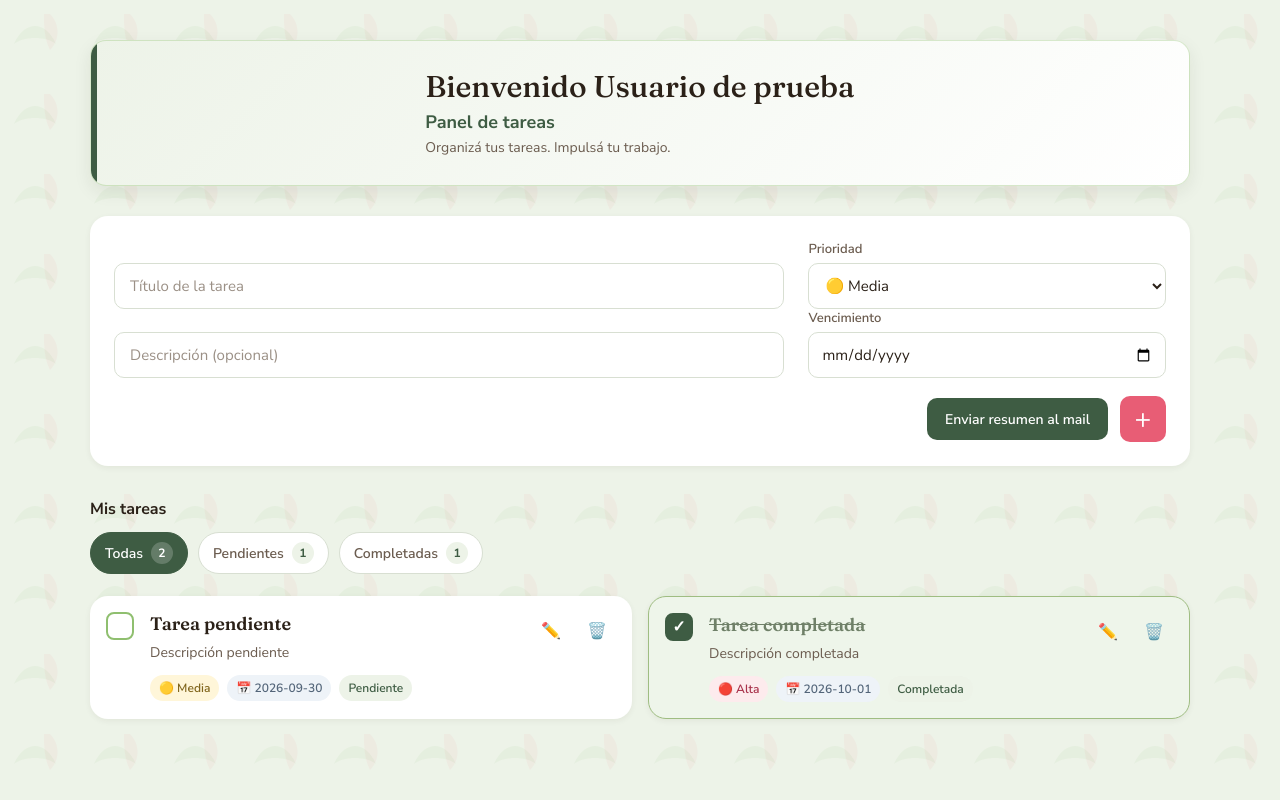
Test: Dashboard › muestra solamente las tareas completadas al seleccionar el filtro
Click the button "Completadas 1".
click(411, 553)  # box [339, 532, 483, 574]
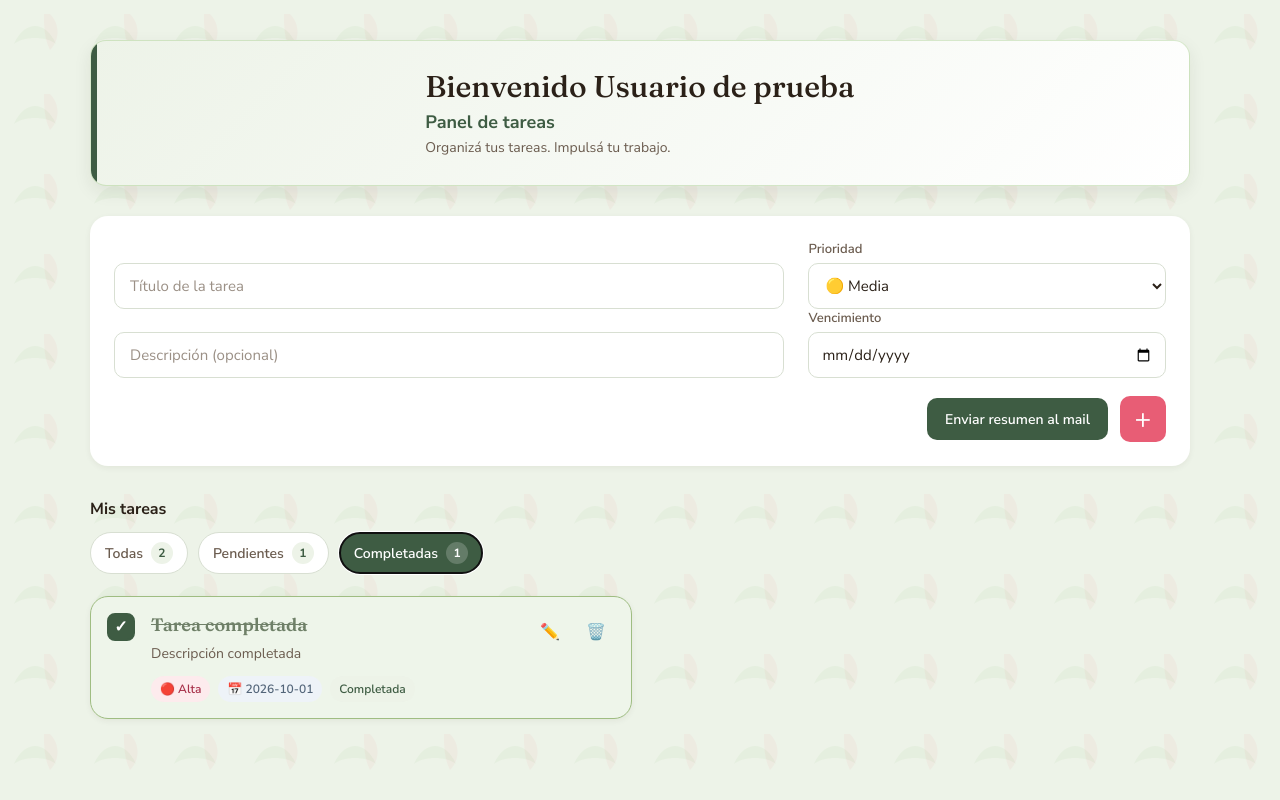
Check: the heading "Tarea completada" is shown, box [151, 613, 307, 636]
Check: the heading "Tarea pendiente" is gone
